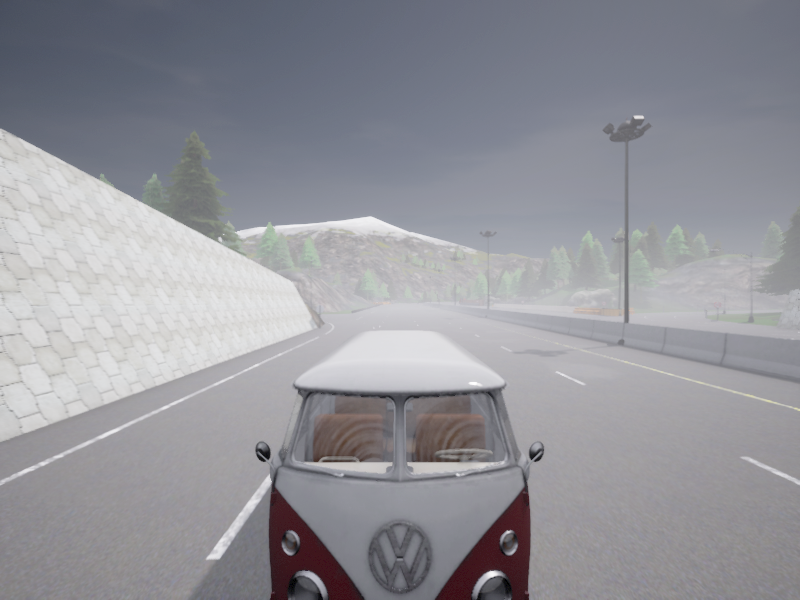vehicle: (255, 331, 543, 599), (460, 298, 467, 301)
